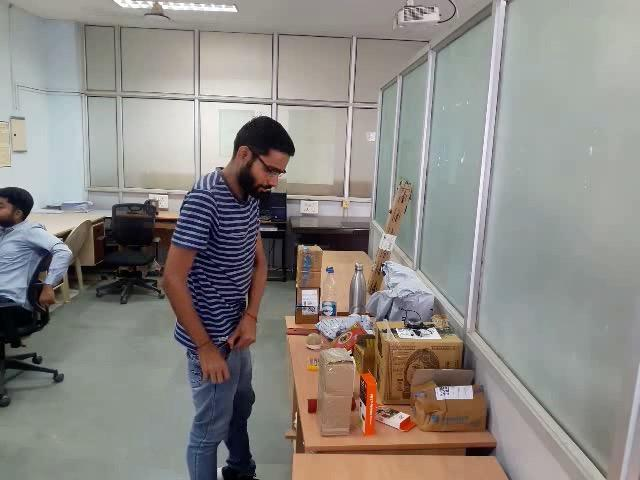shoplifting: (120, 300, 302, 416)
